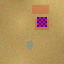person: (26, 40, 32, 49)
vehicle: (31, 4, 48, 13)
